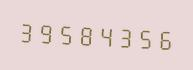eight: (77, 19, 96, 49)
five: (57, 17, 76, 48), (137, 22, 156, 53)
four: (97, 20, 116, 51)
nine: (37, 16, 56, 47)
six: (157, 23, 176, 54)
three: (17, 15, 36, 46), (117, 21, 136, 52)
